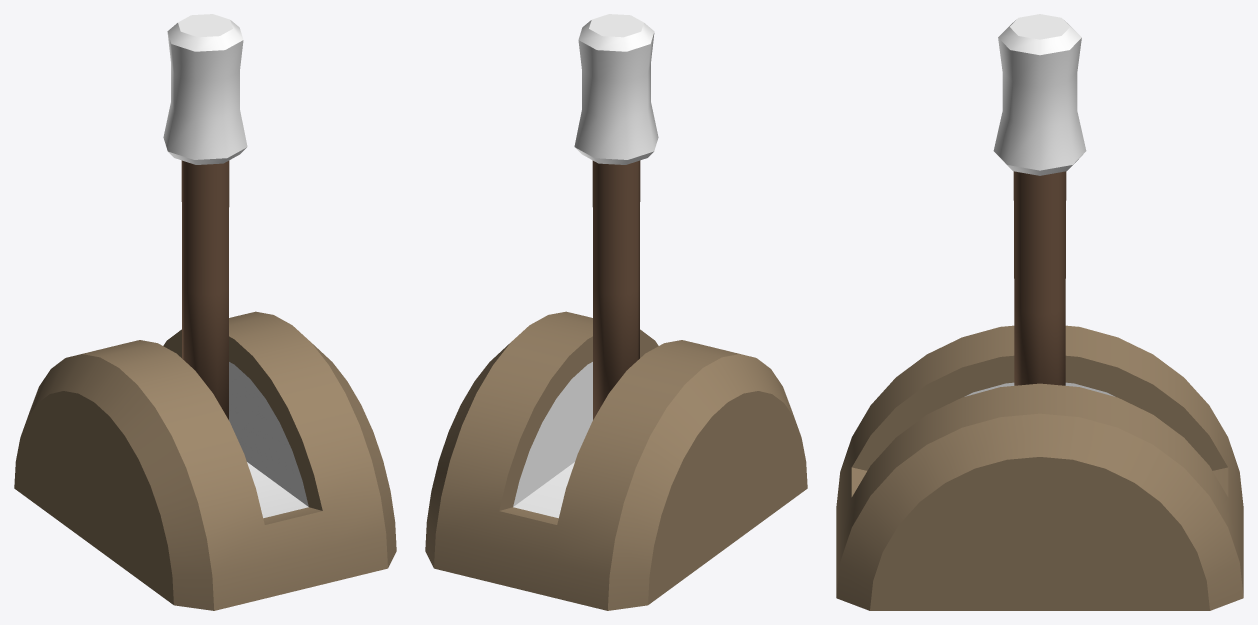
The model's file is lever.fbx.
3 views of the same model, side by side, from view 1: azimuth 30°, elevation 25°; view 2: azimuth 150°, elevation 25°; view 3: azimuth 270°, elevation 25° (orthographic). The views are drawn at different scales.
Parts seen in each view (by area): view 1: Cylinder.015, Cylinder.016; view 2: Cylinder.015, Cylinder.016; view 3: Cylinder.015, Cylinder.016.
Boxes of the visible parts, box(x1,y1,x2,y2) form: Cylinder.015: box(14, 311, 396, 610); Cylinder.016: box(163, 14, 247, 419); Cylinder.015: box(425, 311, 807, 610); Cylinder.016: box(574, 14, 658, 419); Cylinder.015: box(836, 325, 1243, 610); Cylinder.016: box(993, 14, 1086, 385).
Bounding box in the file's own units: 59.2 × 125 × 88.04.
